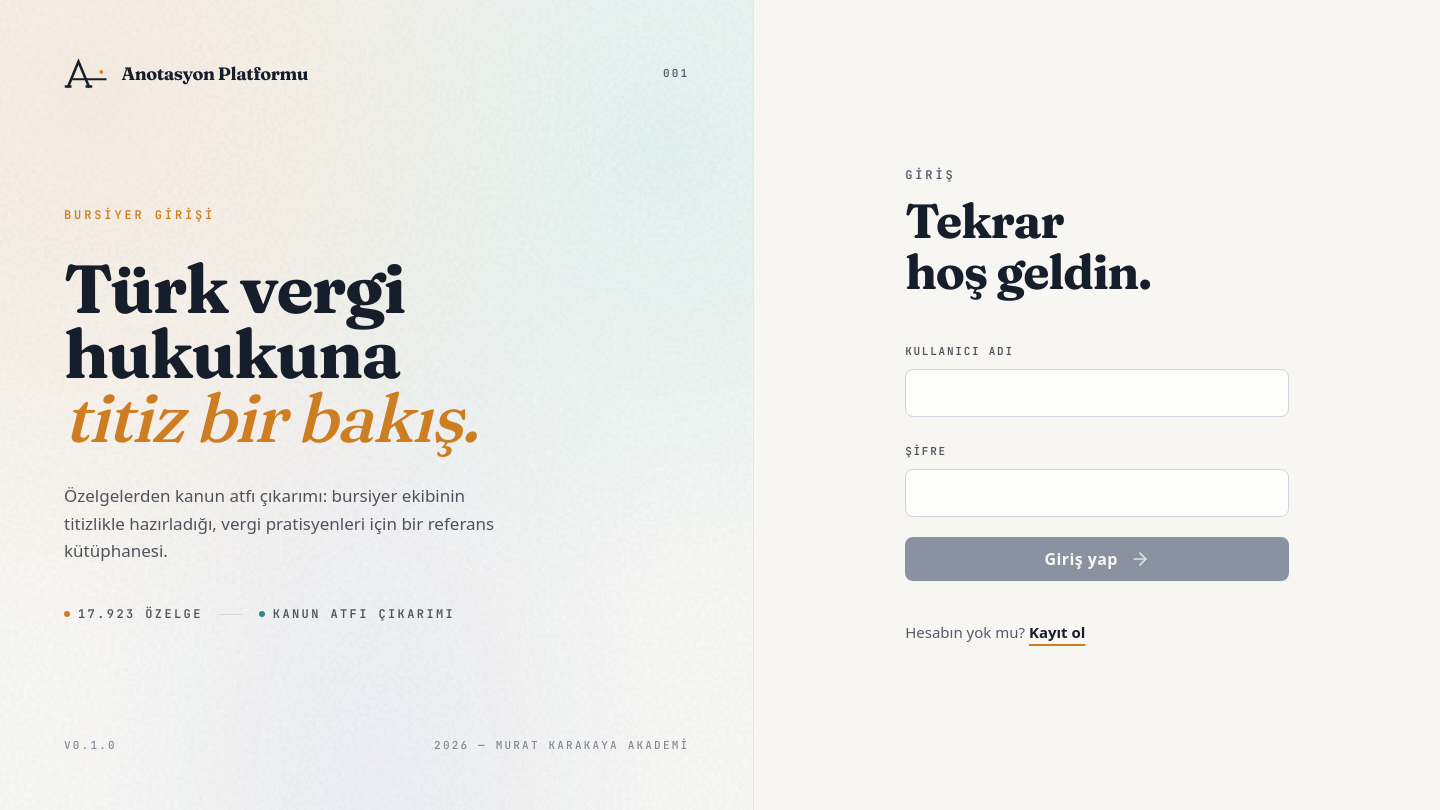
Login route › on invalid credentials: shows error, stays on form
In the field labelled "Kullanıcı adı": (1097, 393) [905, 369, 1289, 417], type "baran"
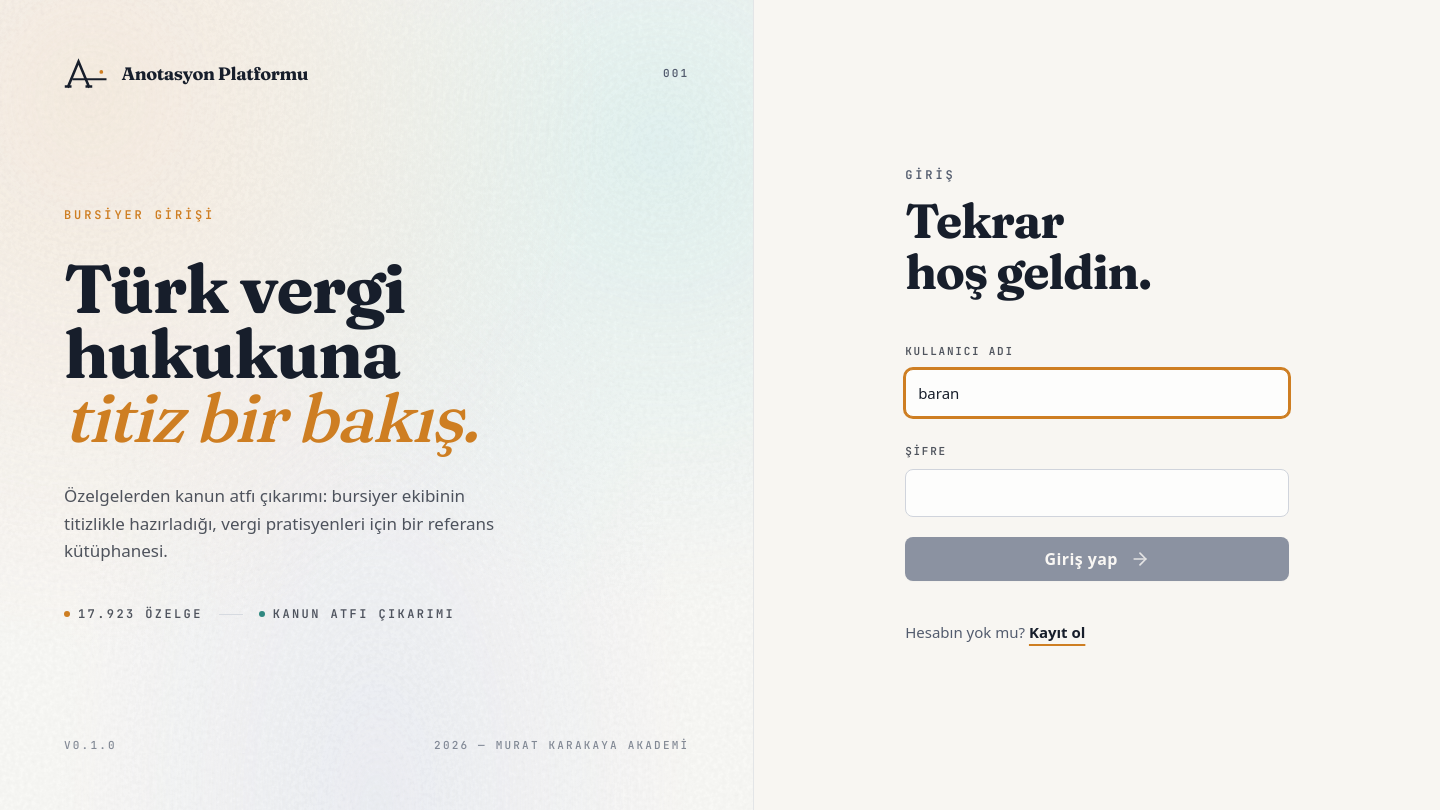
In the password field labelled "Şifre": (1097, 493) [905, 469, 1289, 517], type "wrongpw"
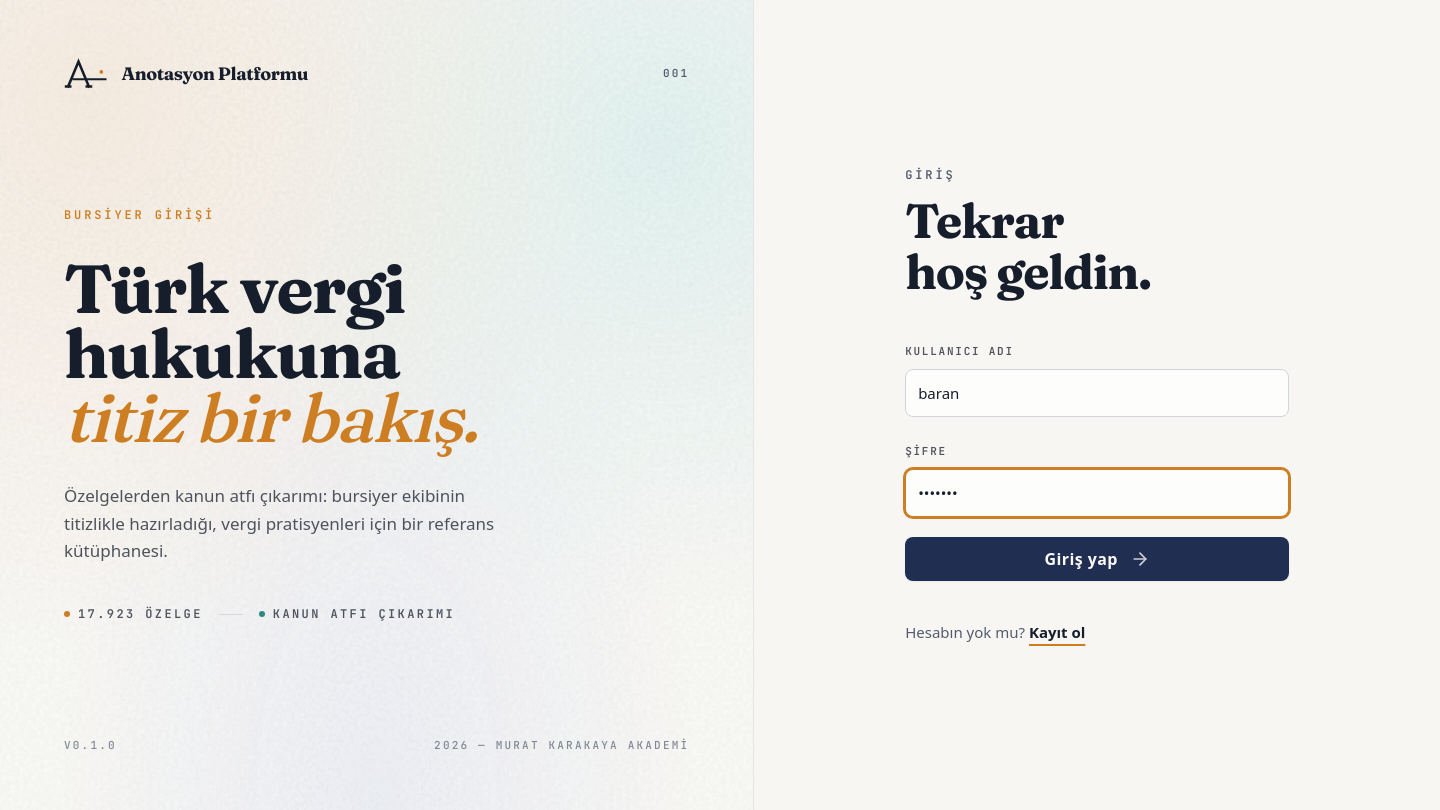
Click the button "Giriş yap": (1097, 559) [905, 537, 1289, 581]
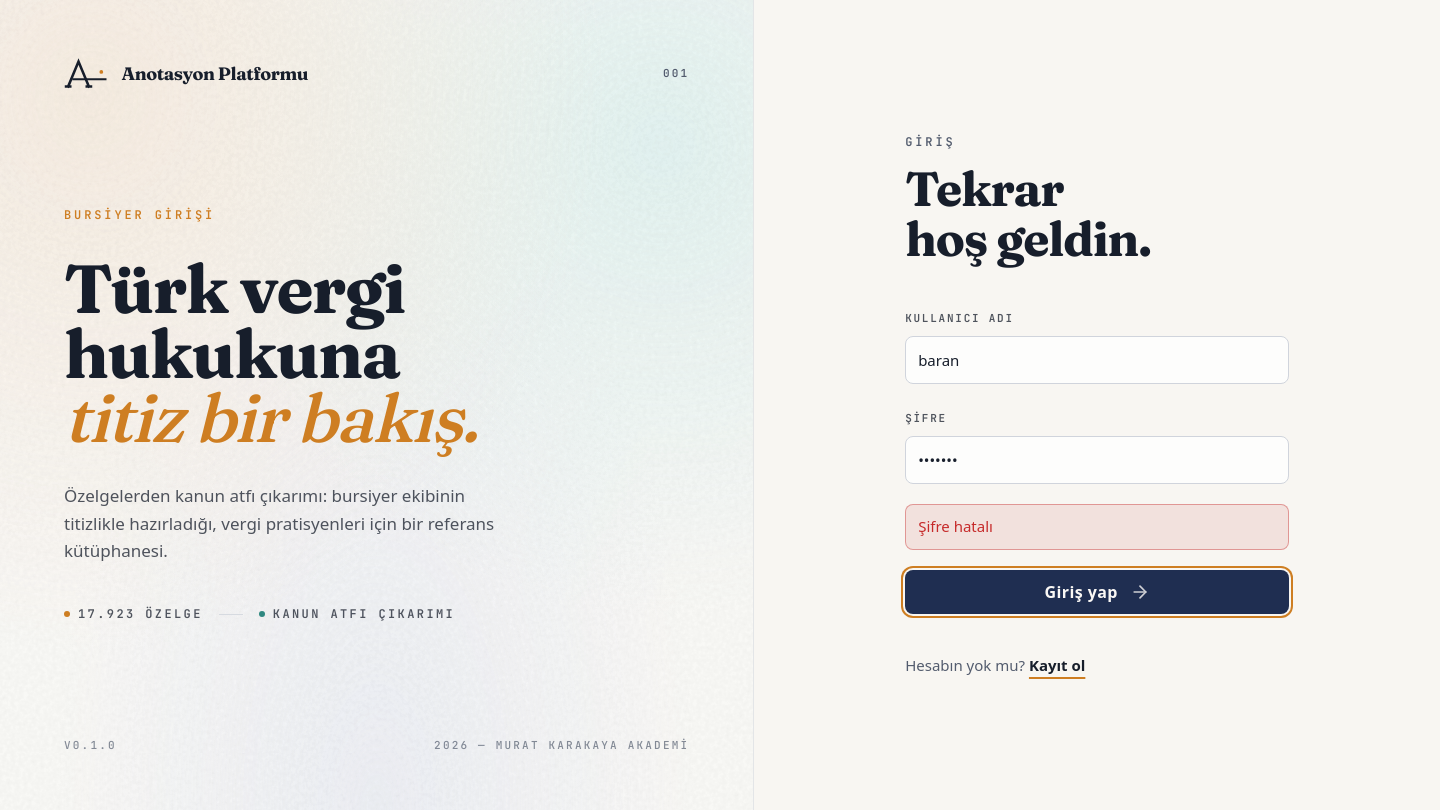
Expected: the text "Şifre hatalı" is shown, [905, 504, 1289, 550]
